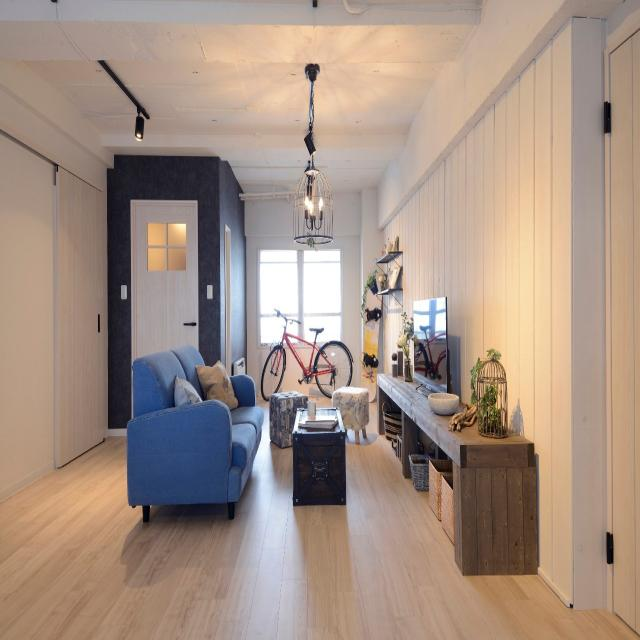vintage desk: (293, 403, 346, 506)
vintage shelf: (373, 370, 539, 578)
vintage sofa: (125, 342, 265, 524)
